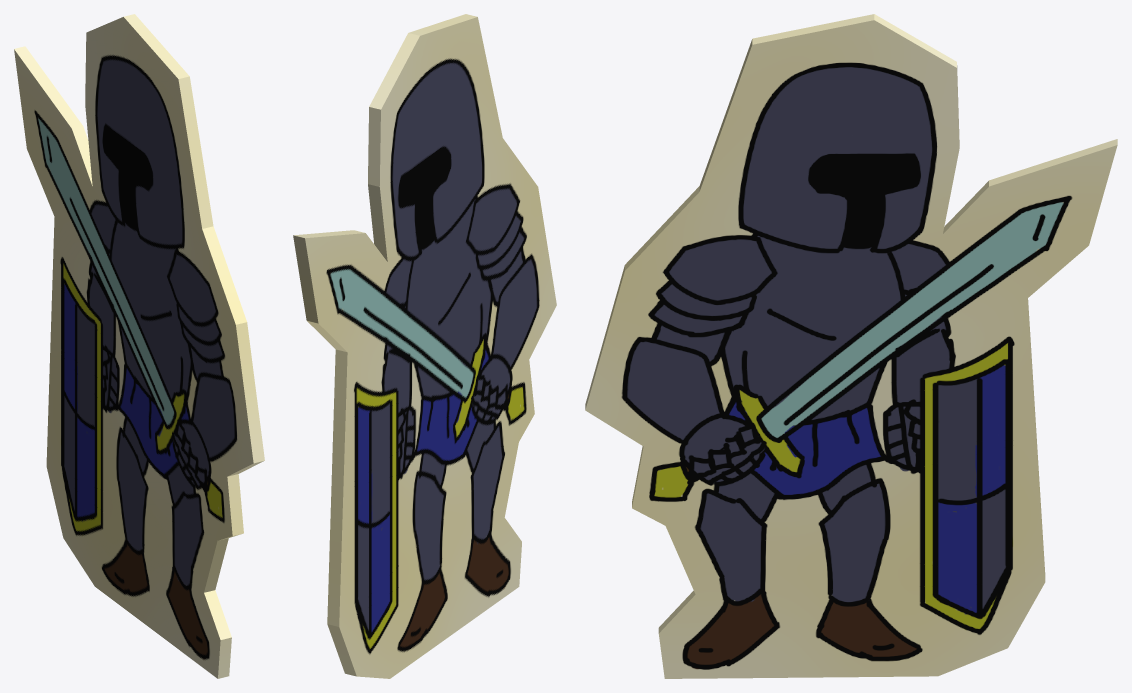
The model's file is Player.fbx.
3 views of the same model, side by side, from view 1: azimuth 30°, elevation 25°; view 2: azimuth 150°, elevation 25°; view 3: azimuth 270°, elevation 25° (orthographic). The views are drawn at different scales.
Parts seen in each view (by area): view 1: Player.001; view 2: Player.001; view 3: Player.001.
Boxes of the visible parts, box(x1,y1,x2,y2) form: Player.001: box(14, 14, 264, 678); Player.001: box(293, 14, 556, 678); Player.001: box(585, 14, 1117, 678).
Bounding box in the file's own units: 3.74 × 187 × 137.
Materials: 1 (1 with a texture image).
